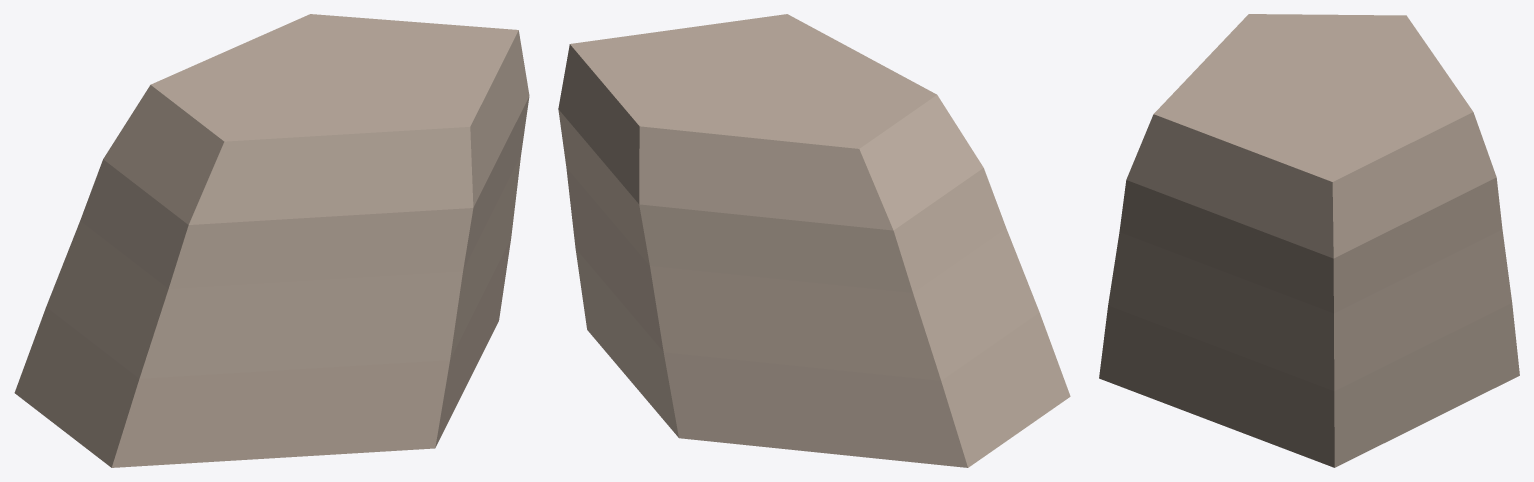
Rendered from TalusShard.fbx.
3 renders of one model, left to right at view 1: azimuth 30°, elevation 25°; view 2: azimuth 150°, elevation 25°; view 3: azimuth 270°, elevation 25°, orthographic. The views are drawn at different scales.
Visible parts, largest first — view 1: TalusShard; view 2: TalusShard; view 3: TalusShard.
Part boxes in pixels (left/top/right/bottom): TalusShard: left=14, top=14, right=529, bottom=467; TalusShard: left=558, top=14, right=1070, bottom=467; TalusShard: left=1099, top=14, right=1519, bottom=467.
Bounding box in the file's own units: 77.23 × 45 × 58.14.
